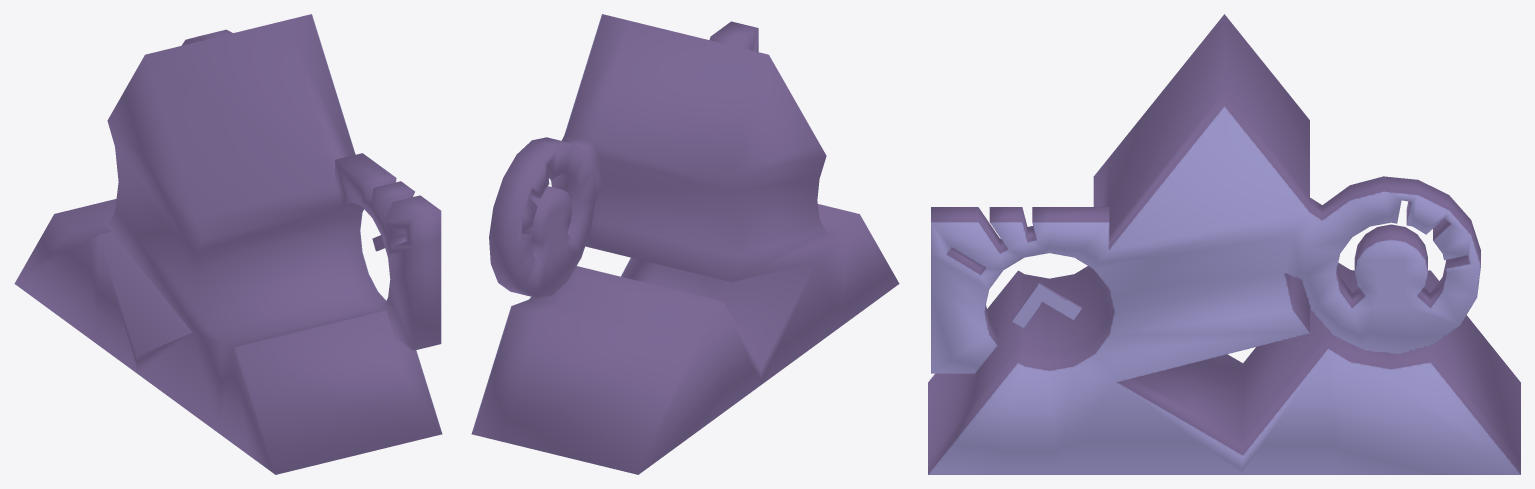
File: gea_head.glb
3 views of the same model, side by side, from view 1: azimuth 30°, elevation 25°; view 2: azimuth 150°, elevation 25°; view 3: azimuth 270°, elevation 25° (orthographic). The views are drawn at different scales.
Parts seen in each view (by area): view 1: gea_head; view 2: gea_head; view 3: gea_head, gea_eye.
Part boxes in pixels (x1,y1,x2,y2): gea_head: [14, 14, 442, 474]; gea_head: [471, 14, 899, 474]; gea_head: [928, 14, 1520, 474]; gea_eye: [1012, 282, 1081, 328].
Bounding box in the file's own units: 0.9892 × 1.84 × 2.68.
Materials: 2 (2 with a texture image).
